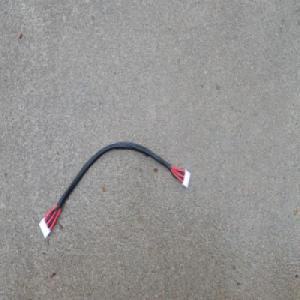Wire: (37, 140, 191, 241)
